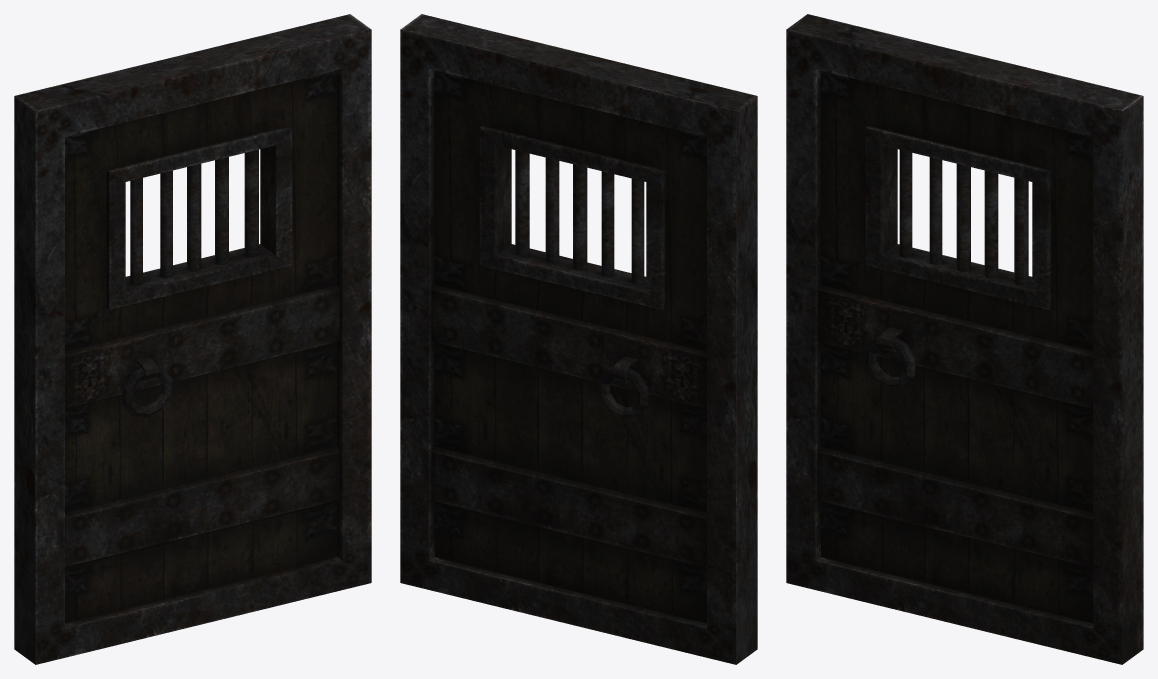
Rendered from prison_broken.dae.
The picture shows the model from 3 angles, left to right: view 1: azimuth 30°, elevation 25°; view 2: azimuth 150°, elevation 25°; view 3: azimuth 330°, elevation 25°; orthographic projection.
Parts seen in each view (by area): view 1: door; view 2: door; view 3: door.
Part boxes in pixels (x1,y1,x2,y2): door: (14, 14, 371, 664); door: (400, 14, 757, 664); door: (786, 14, 1143, 664).
Size of the model in its own units: 1.75 by 0.3588 by 2.75.
